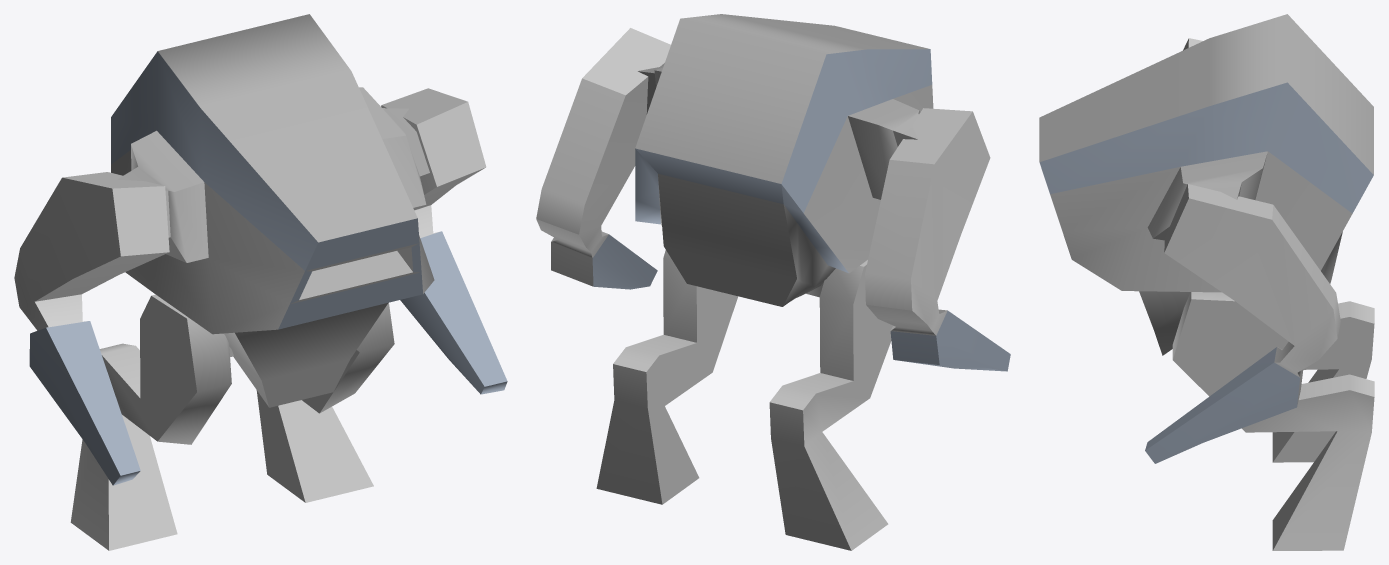
File: heavy.fbx
3 renders of one model, left to right at view 1: azimuth 30°, elevation 25°; view 2: azimuth 150°, elevation 25°; view 3: azimuth 270°, elevation 25°, orthographic. The views are drawn at different scales.
Parts seen in each view (by area): view 1: pCube1, pCube2, pCube3; view 2: pCube1, pCube2, pCube3; view 3: pCube1, pCube3, pCube2.
Boxes of the visible parts, x1,y1,x2,y2 form: pCube1: (111, 14, 434, 407); pCube2: (14, 88, 507, 485); pCube3: (70, 294, 394, 550); pCube1: (635, 14, 933, 306); pCube2: (536, 28, 1010, 371); pCube3: (596, 250, 892, 550); pCube1: (1039, 14, 1373, 355); pCube3: (1172, 292, 1374, 550); pCube2: (1145, 38, 1340, 463).
Size of the model in its own units: 6.33 by 7.19 by 4.93.
